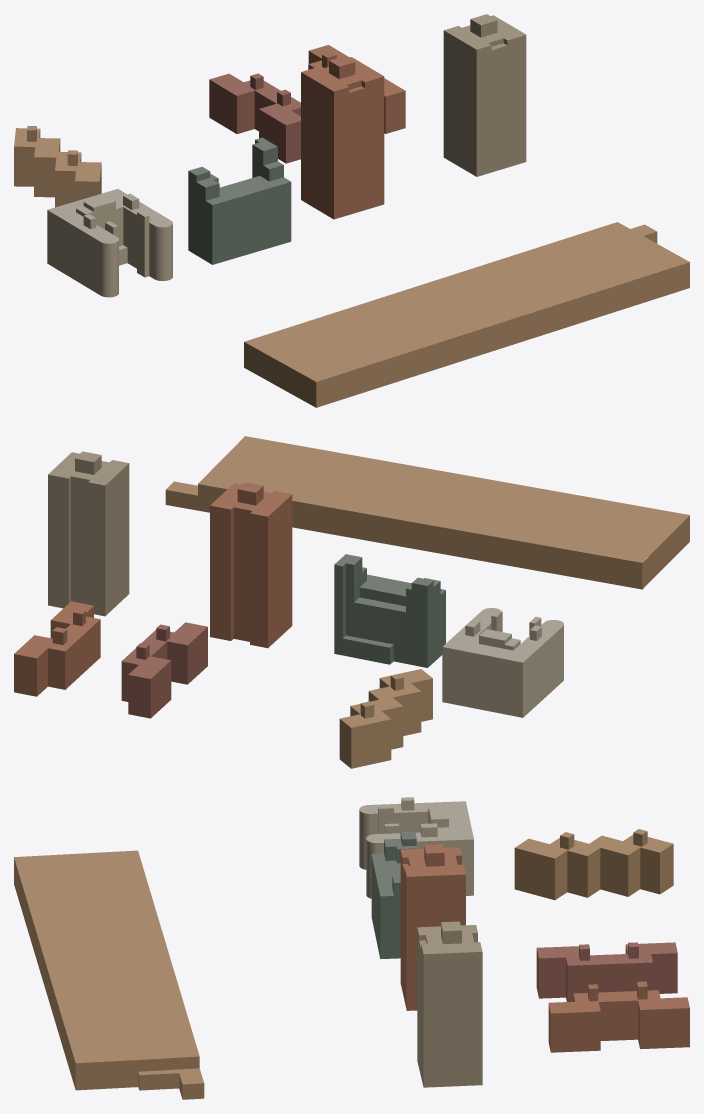
Rendered from tile-6_11.glb.
3 views of the same model, one above another, from view 1: azimuth 30°, elevation 25°; view 2: azimuth 150°, elevation 25°; view 3: azimuth 270°, elevation 25° (orthographic). The views are drawn at different scales.
Visible parts, largest first — view 1: wall, roof; view 2: wall, roof; view 3: wall, roof.
Part boxes in pixels (x1=…): wall: x1=14, y1=19, x2=689, y2=407; roof: x1=14, y1=14, x2=689, y2=381; wall: x1=14, y1=455, x2=689, y2=768; roof: x1=14, y1=436, x2=689, y2=727; wall: x1=14, y1=798, x2=689, y2=1099; roof: x1=14, y1=797, x2=689, y2=1084.
Bounding box in the file's own units: 224 × 65.23 × 263.
